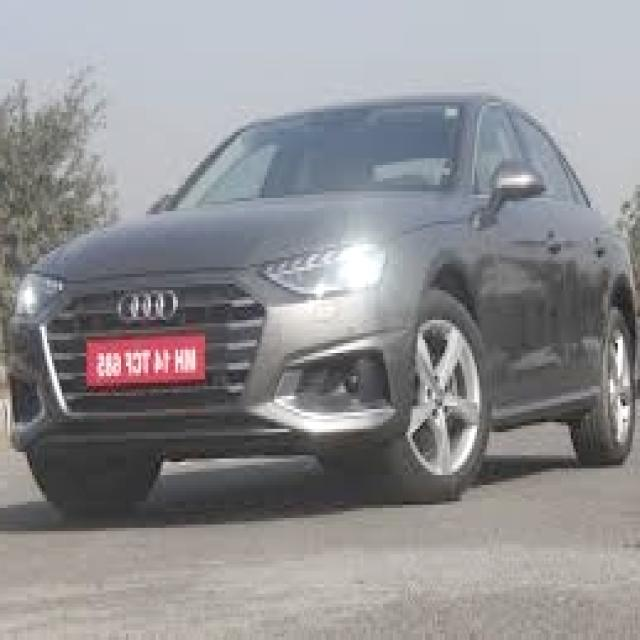black: (0, 90, 640, 497)
